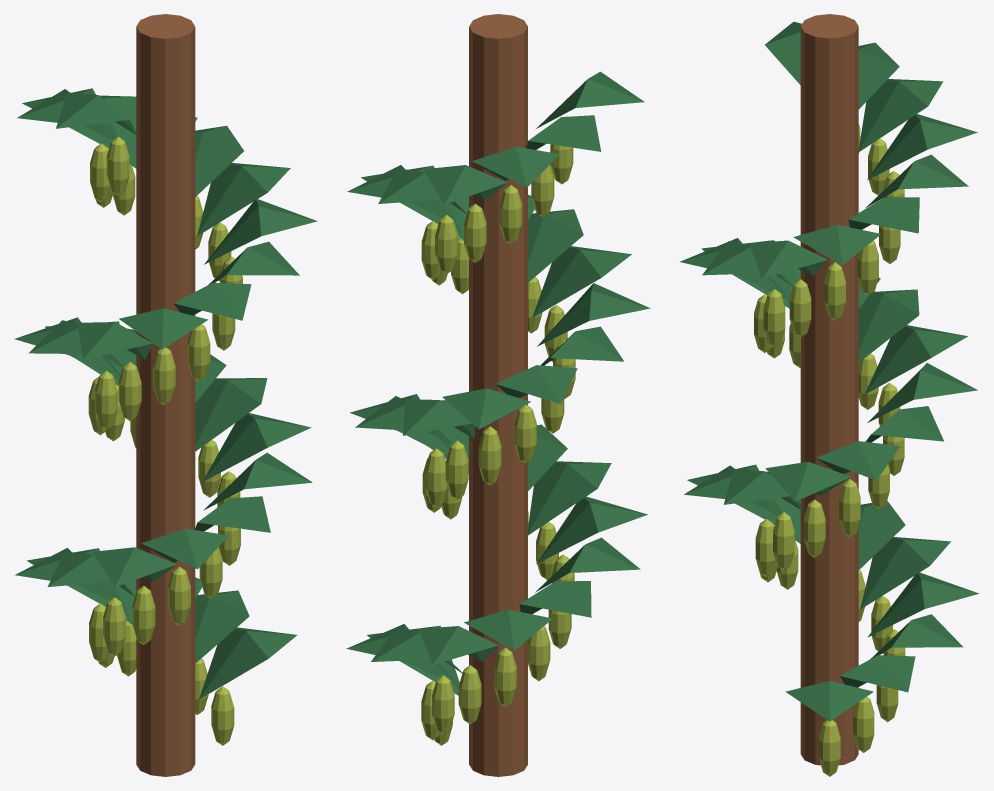
File: 039_black_pepper_vine.glb
The picture shows the model from 3 angles, left to right: view 1: azimuth 30°, elevation 25°; view 2: azimuth 150°, elevation 25°; view 3: azimuth 270°, elevation 25°; orthographic projection.
Parts seen in each view (by area): view 1: Black pepper vine; view 2: Black pepper vine; view 3: Black pepper vine.
Boxes of the visible parts, x1,y1,x2,y2 form: Black pepper vine: (14, 14, 317, 776); Black pepper vine: (346, 14, 650, 776); Black pepper vine: (680, 14, 978, 776).
Bounding box in the file's own units: 0.8788 × 2.35 × 0.8786.
